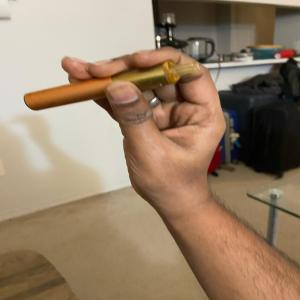Golden-E-Ciggirate: (22, 55, 205, 114)
